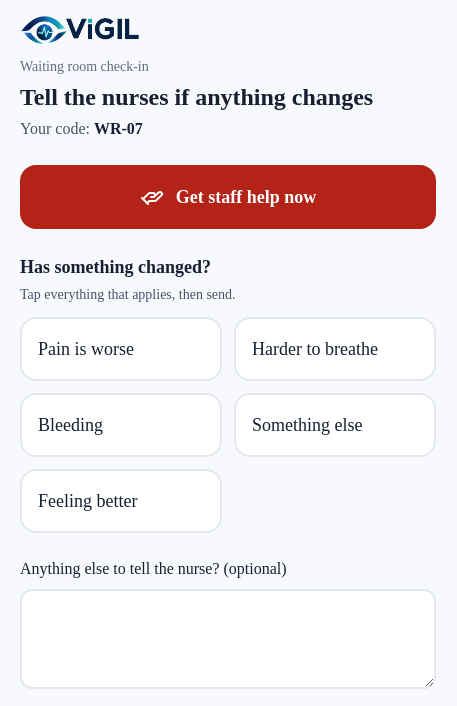
Scenario: CheckinView › asks for staff help in one tap
Click the button "Get staff help now": (228, 197) [20,165,436,229]
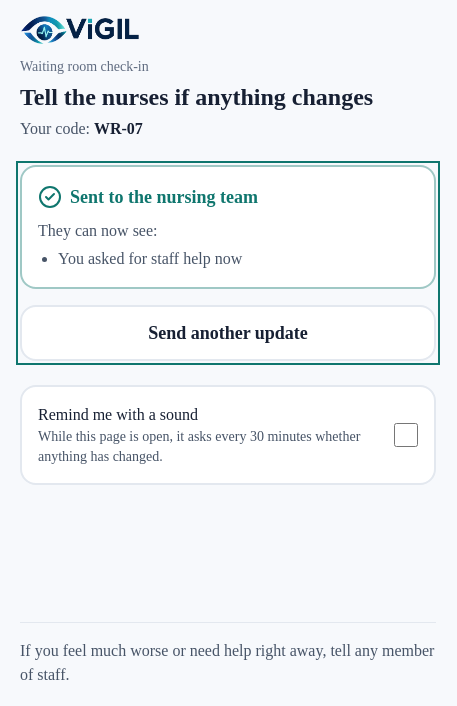
expect the list item "You asked for staff help now" is shown: met, box [58,250,242,267]
